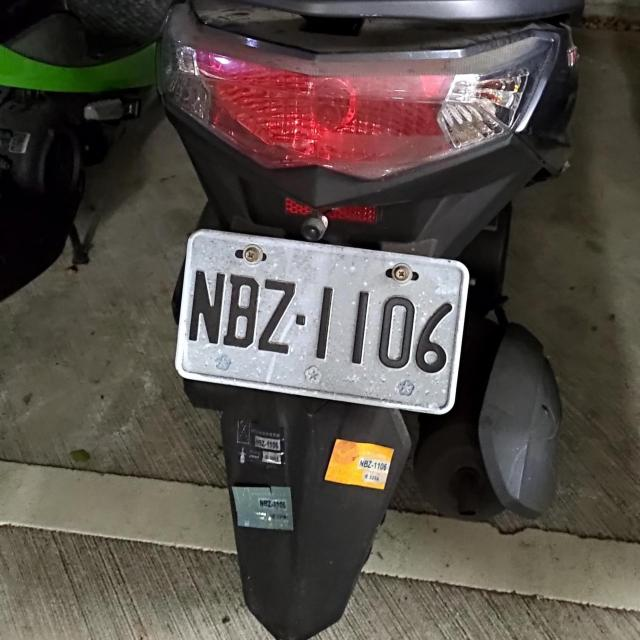W: (169, 224, 475, 414)
